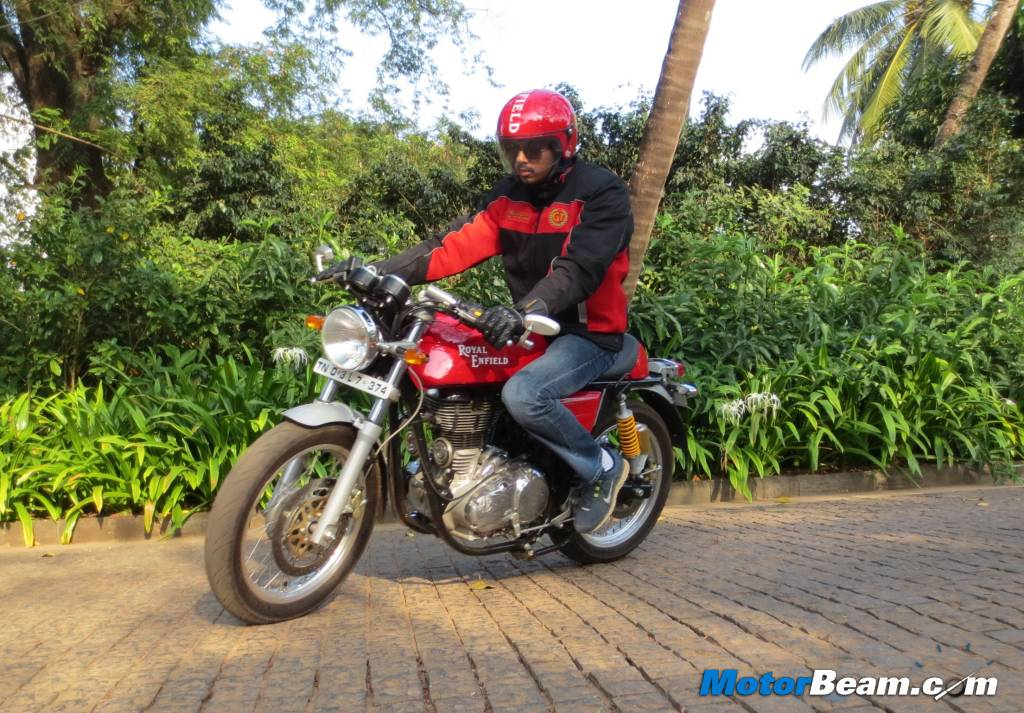helmet: (497, 88, 577, 170)
